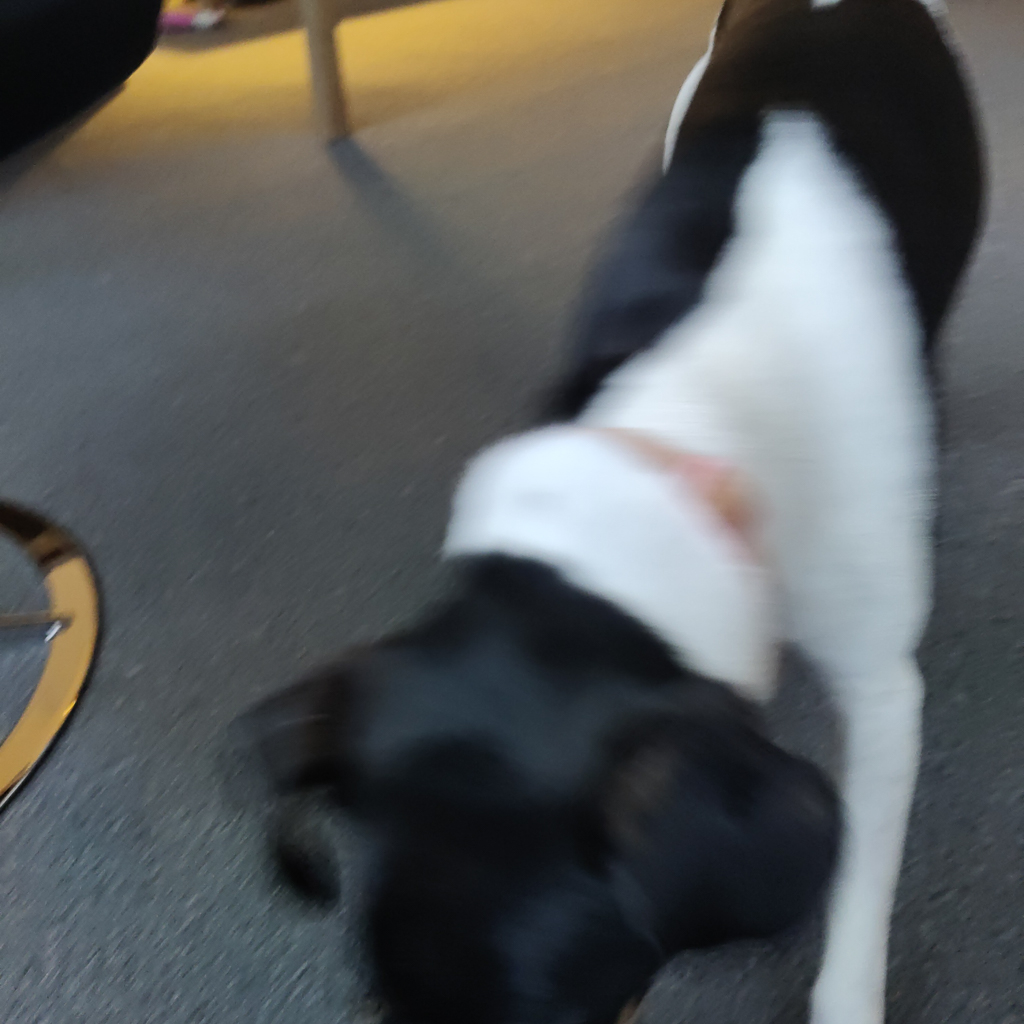Dog: (184, 0, 1010, 1024)
